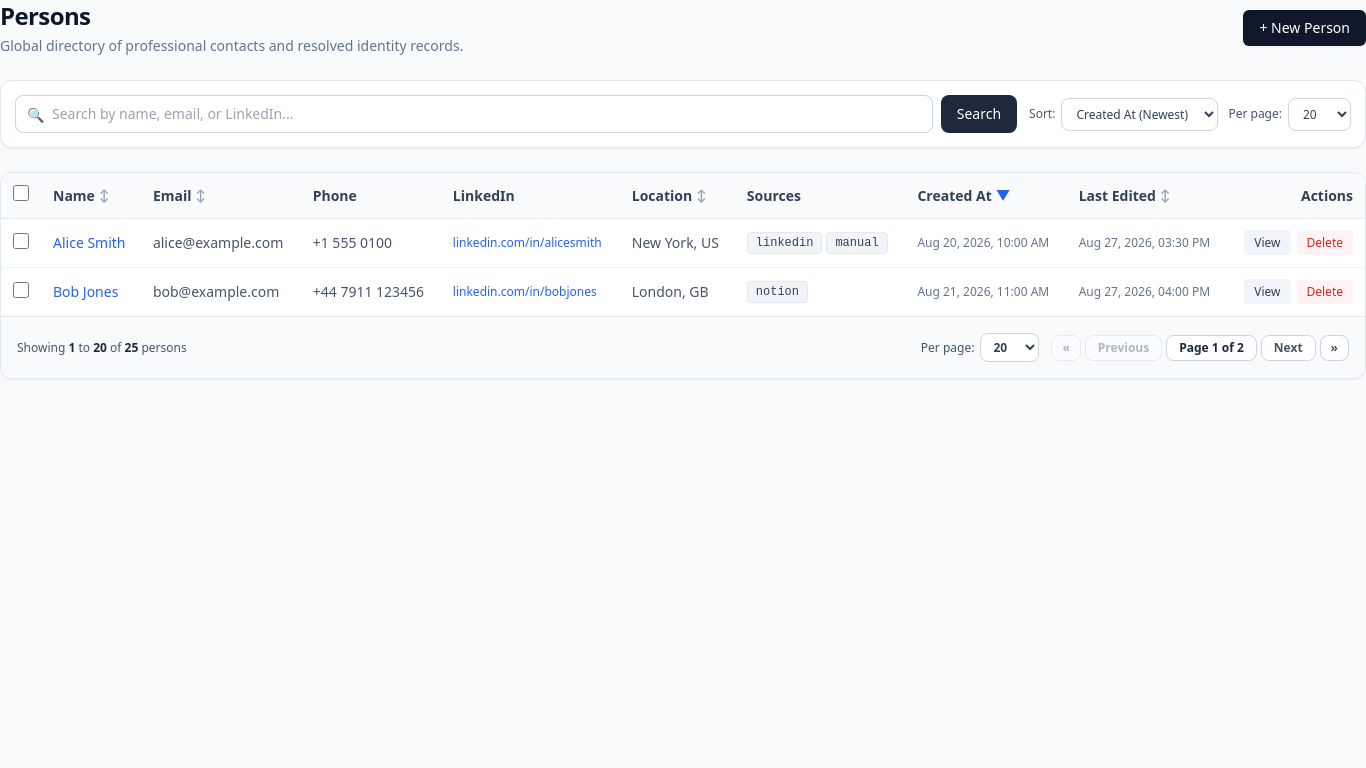
Test: PersonsPage › allows selecting rows and displays the bulk actions toolbar
Expected: the link "Alice Smith" is shown, x1=53 y1=233 x2=126 y2=252
Expected: the text "Bulk actions for dirty records cleanup" is not shown
First checkbox is header "select all", second is row 1
Click the checkbox next to "Alice Smith". click: x=21, y=240
box: x1=13 y1=232 x2=29 y2=248
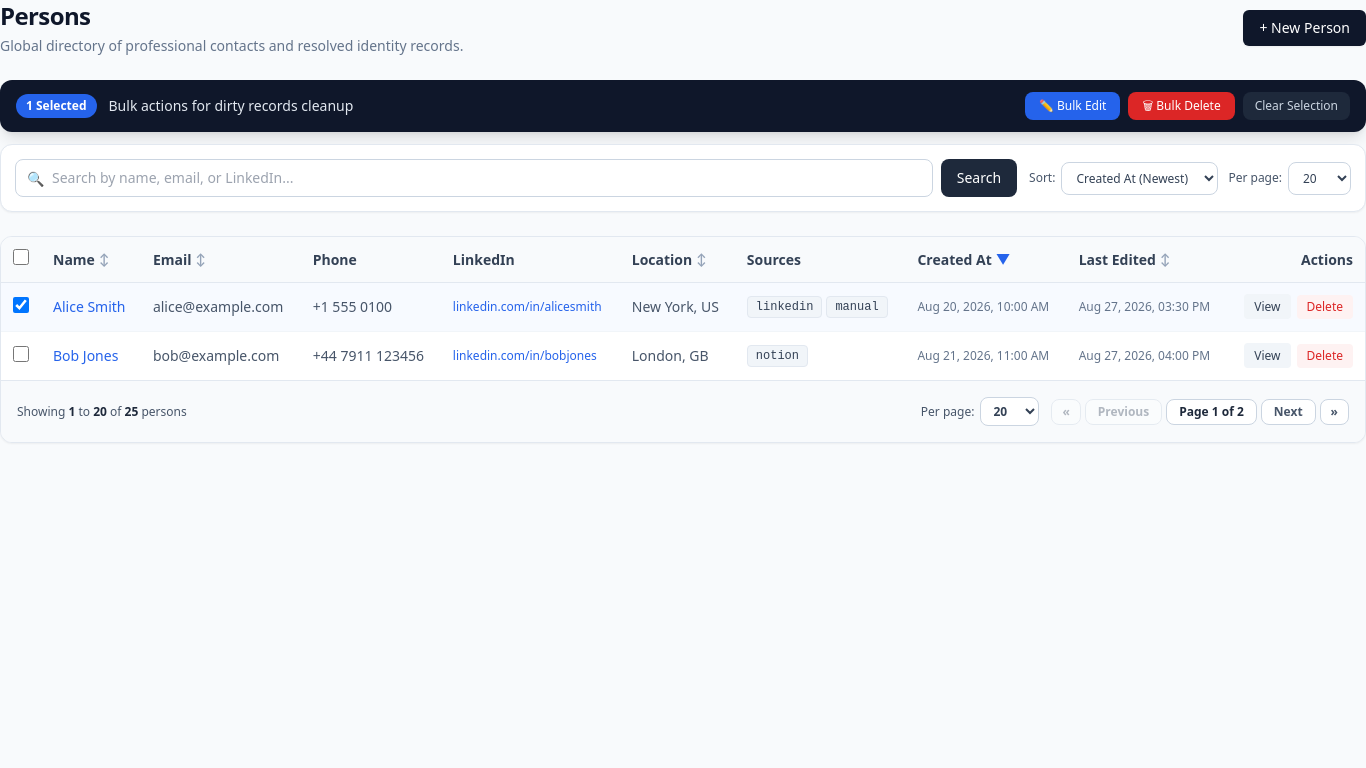
Now the text "1 Selected" is shown, box x1=16 y1=94 x2=96 y2=118
Now the button "✏️ Bulk Edit" is shown
Now the button "🗑 Bulk Delete" is shown, box x1=1128 y1=92 x2=1235 y2=120
Open Bulk Edit modal
Click the button "✏️ Bulk Edit". click: x=1073, y=106
box: x1=1025 y1=92 x2=1120 y2=120
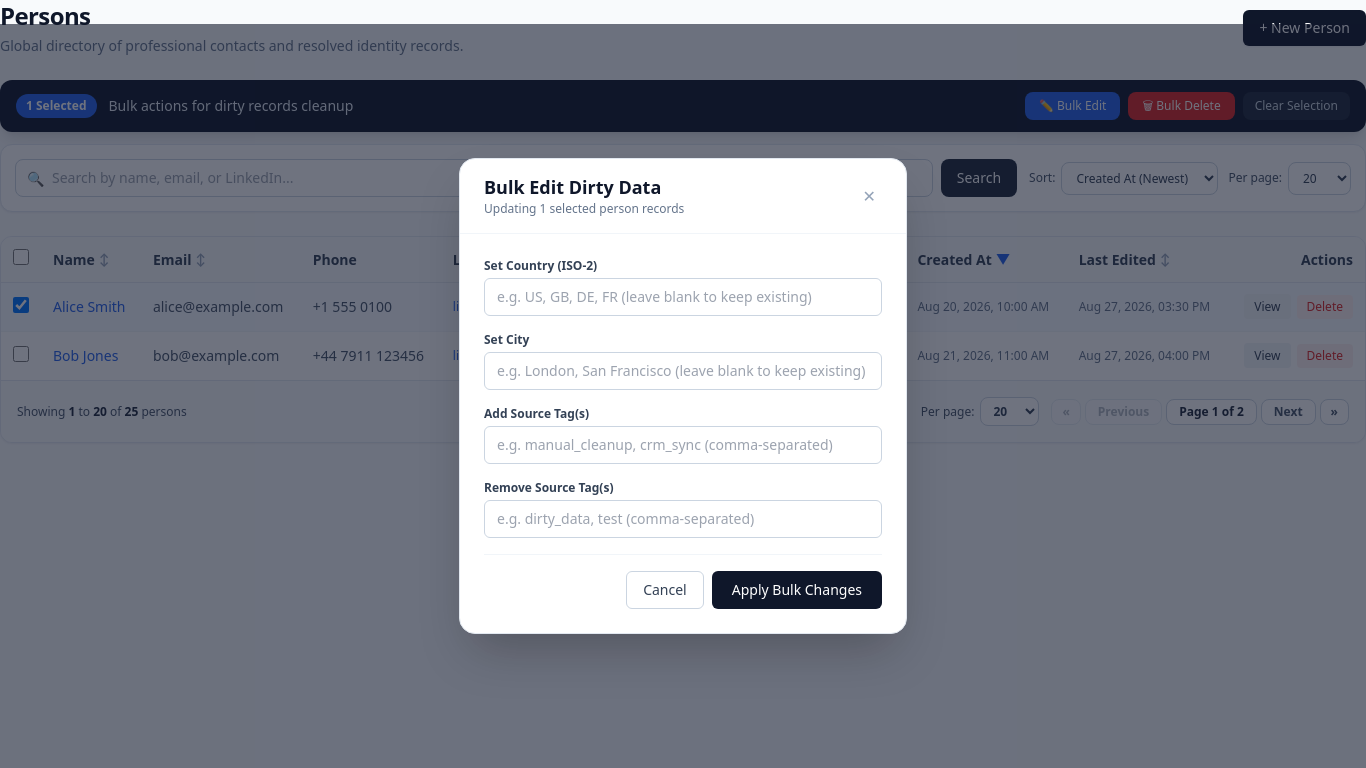
Now the heading "Bulk Edit Dirty Data" is shown, box x1=484 y1=175 x2=684 y2=199
